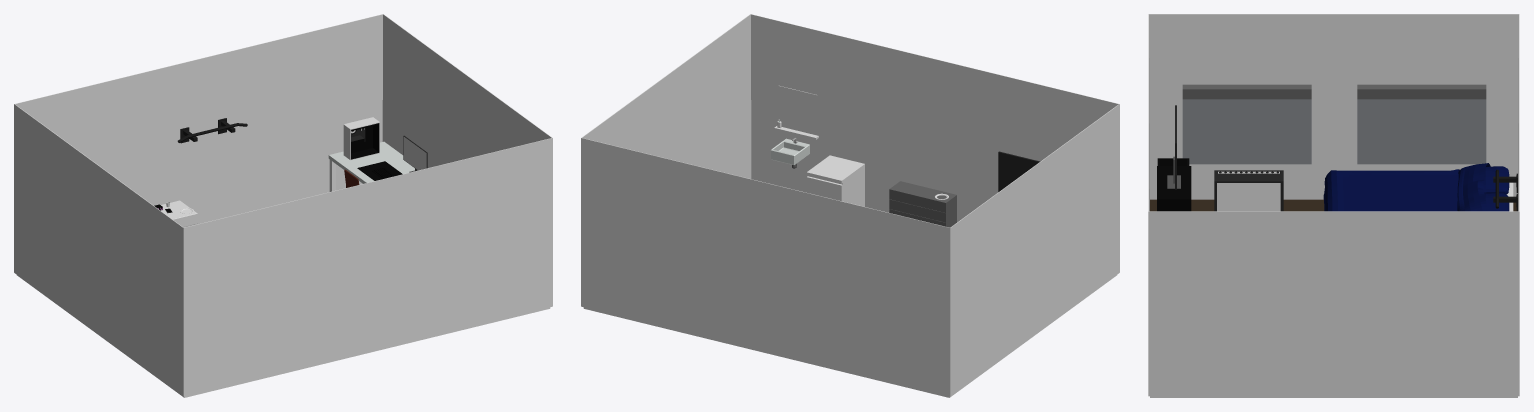
The model's file is slaapkamerJesse.fbx.
3 views of the same model, side by side, from view 1: azimuth 30°, elevation 25°; view 2: azimuth 150°, elevation 25°; view 3: azimuth 270°, elevation 25° (orthographic). The views are drawn at different scales.
Parts seen in each view (by area): view 1: Plane, Plane.024, Plane.026, Plane.030, Plane.033, Plane.010; view 2: Plane, Plane.019, Plane.018, Plane.023, Plane.017, Plane.020; view 3: Plane, Plane.011, Plane.012, Plane.003, Plane.013, Plane.014, Plane.005, Plane.033, Plane.017.
Boxes of the visible parts, bbox=[...] form: Plane: bbox=[14, 14, 552, 397]; Plane.024: bbox=[328, 141, 414, 191]; Plane.026: bbox=[343, 117, 379, 160]; Plane.030: bbox=[403, 135, 427, 172]; Plane.033: bbox=[177, 118, 247, 143]; Plane.010: bbox=[161, 200, 197, 227]; Plane: bbox=[581, 14, 1119, 397]; Plane.019: bbox=[806, 155, 864, 206]; Plane.018: bbox=[889, 181, 956, 227]; Plane.023: bbox=[778, 85, 817, 134]; Plane.017: bbox=[998, 151, 1040, 191]; Plane.020: bbox=[770, 138, 809, 168]; Plane: bbox=[1148, 14, 1519, 397]; Plane.011: bbox=[1357, 84, 1486, 164]; Plane.012: bbox=[1182, 84, 1311, 164]; Plane.003: bbox=[1323, 163, 1490, 211]; Plane.013: bbox=[1214, 170, 1283, 211]; Plane.014: bbox=[1157, 166, 1191, 211]; Plane.005: bbox=[1483, 166, 1509, 194]; Plane.033: bbox=[1493, 169, 1517, 211]; Plane.017: bbox=[1167, 105, 1180, 189].
Bounding box in the file's own units: 5.1 × 2.25 × 4.05.
